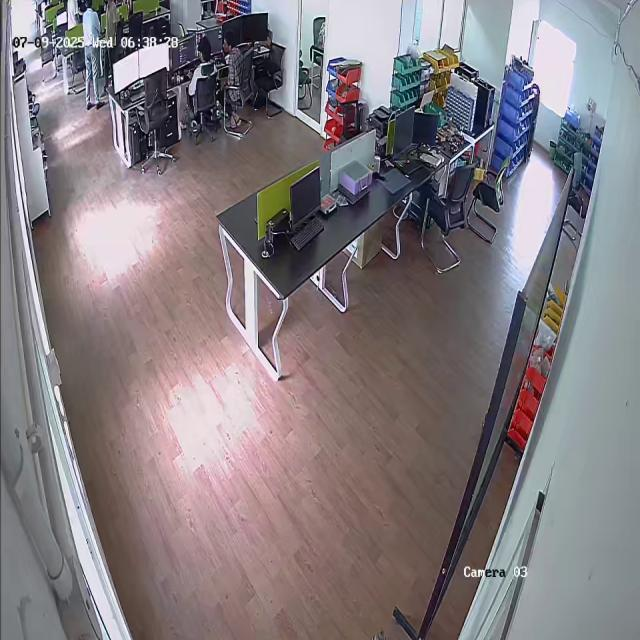person: (79, 0, 104, 110), (216, 30, 246, 111)
